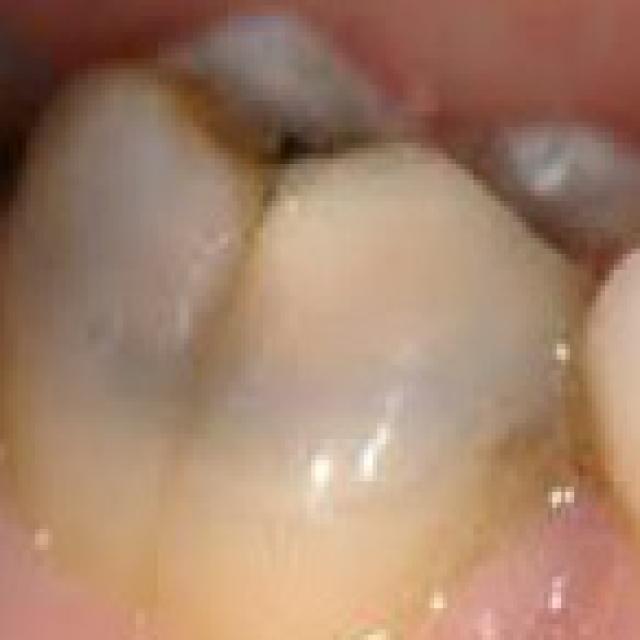Carrier: (160, 46, 410, 180), (419, 102, 604, 273)
